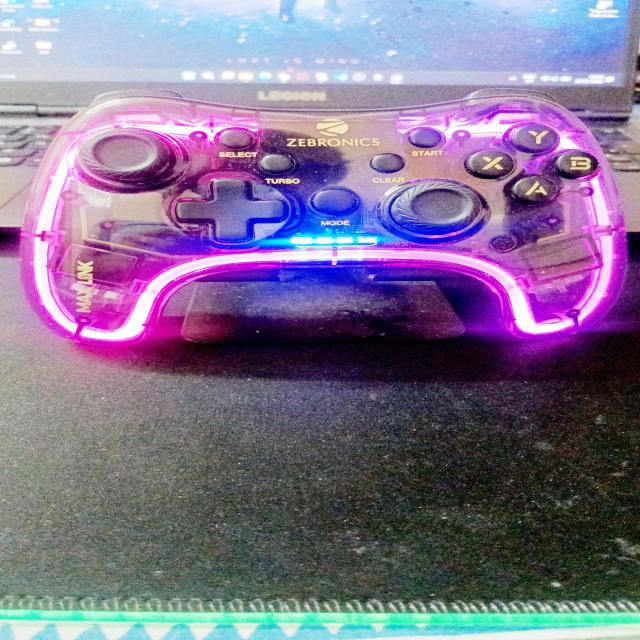gamepad: (19, 87, 628, 347)
